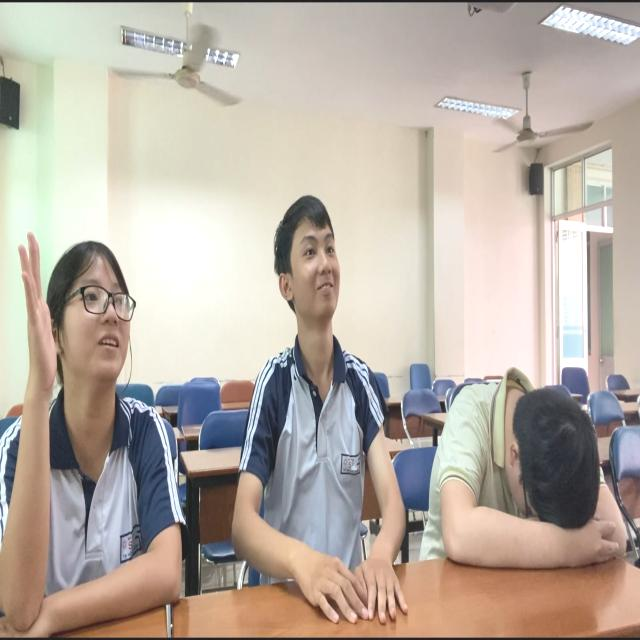raise_hand: (1, 236, 186, 640)
sleep: (427, 360, 635, 587)
